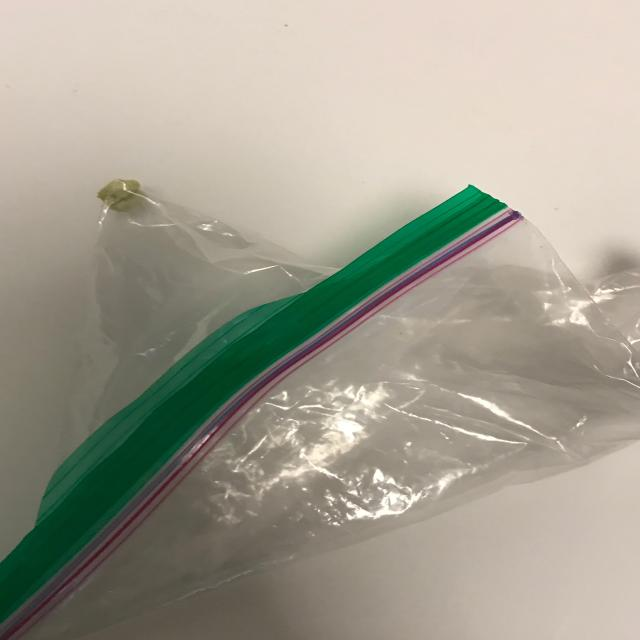trash: (2, 182, 638, 638)
